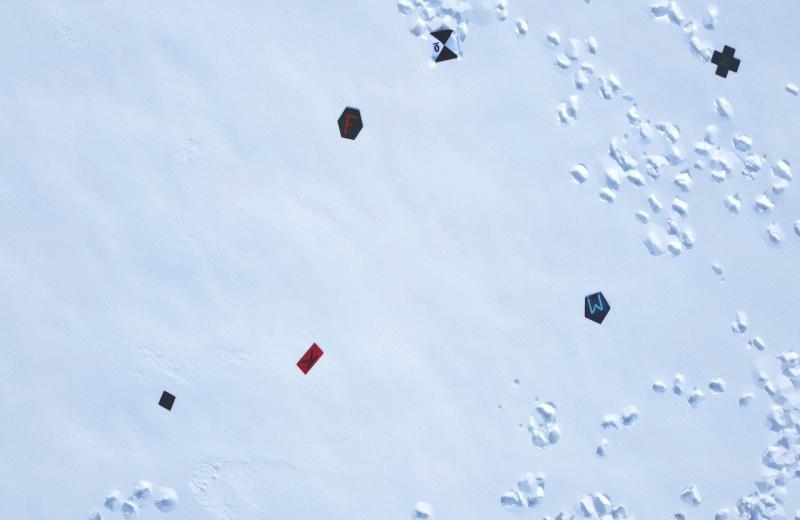Cross: (710, 43, 743, 81)
Hexagon: (334, 105, 366, 144)
Pentagon: (579, 289, 613, 328)
Rectangle: (295, 342, 325, 377)
Square: (156, 389, 176, 414)
